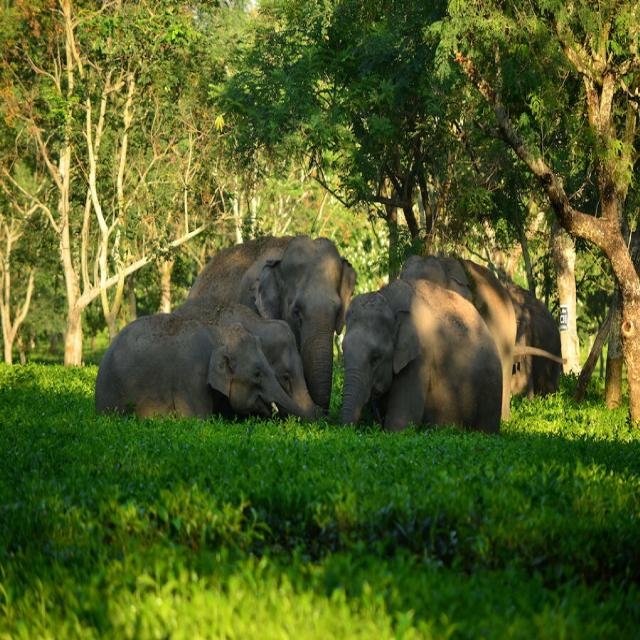Elephant: (81, 285, 319, 446), (204, 223, 353, 427), (343, 281, 510, 461)
